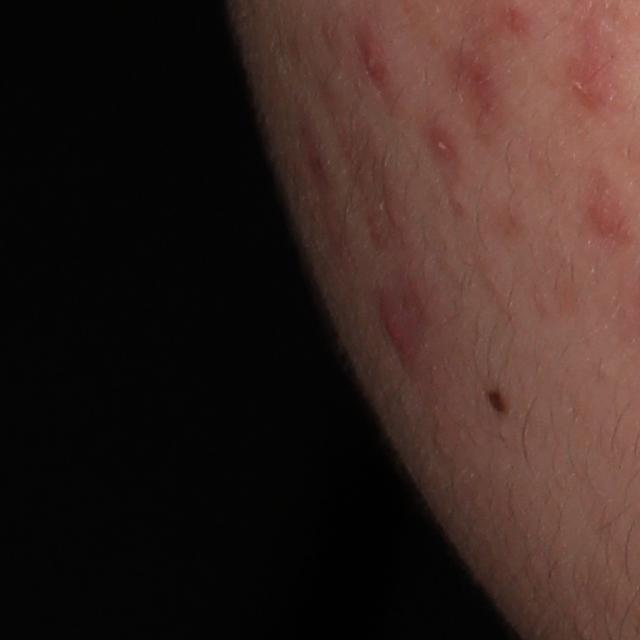nevus: (479, 389, 509, 416)
papule: (561, 54, 629, 116)
